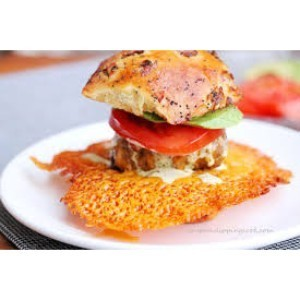cheese_brain food: (90, 49, 237, 124), (63, 166, 207, 235)
